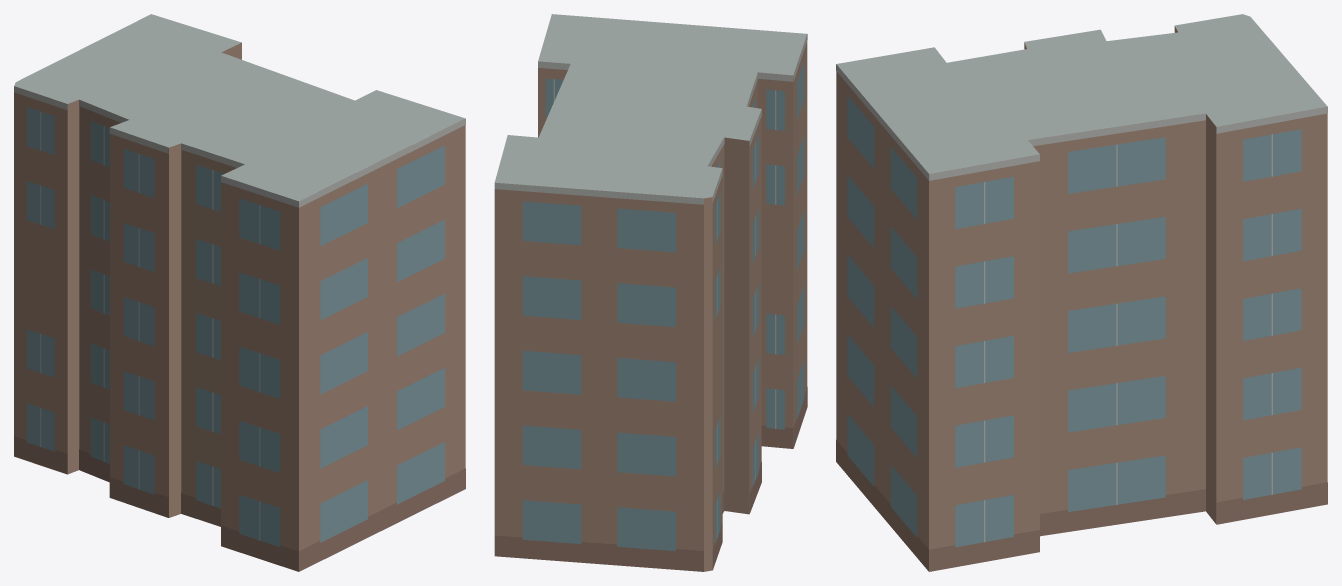
Rendered from survey-upis-32868679.glb.
3 views of the same model, side by side, from view 1: azimuth 30°, elevation 25°; view 2: azimuth 150°, elevation 25°; view 3: azimuth 270°, elevation 25° (orthographic). The views are drawn at different scales.
Parts seen in each view (by area): view 1: survey-upis-32868679.tmp; view 2: survey-upis-32868679.tmp; view 3: survey-upis-32868679.tmp.
Boxes of the visible parts, x1,y1,x2,y2 form: survey-upis-32868679.tmp: [14, 14, 465, 571]; survey-upis-32868679.tmp: [494, 14, 807, 571]; survey-upis-32868679.tmp: [836, 14, 1327, 571].
Bounding box in the file's own units: 12.33 × 14.27 × 15.99.
